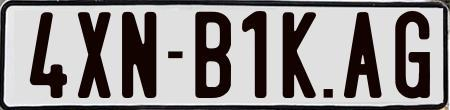1: (240, 8, 265, 100)
4: (29, 9, 69, 100)
A: (341, 10, 381, 100)
B: (194, 9, 234, 101)
G: (395, 9, 430, 103)
K: (281, 12, 319, 99)
N: (122, 11, 162, 102)
X: (77, 11, 113, 99)
